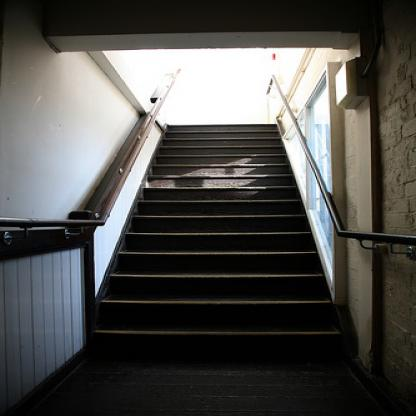stairs: (115, 229, 300, 367)
